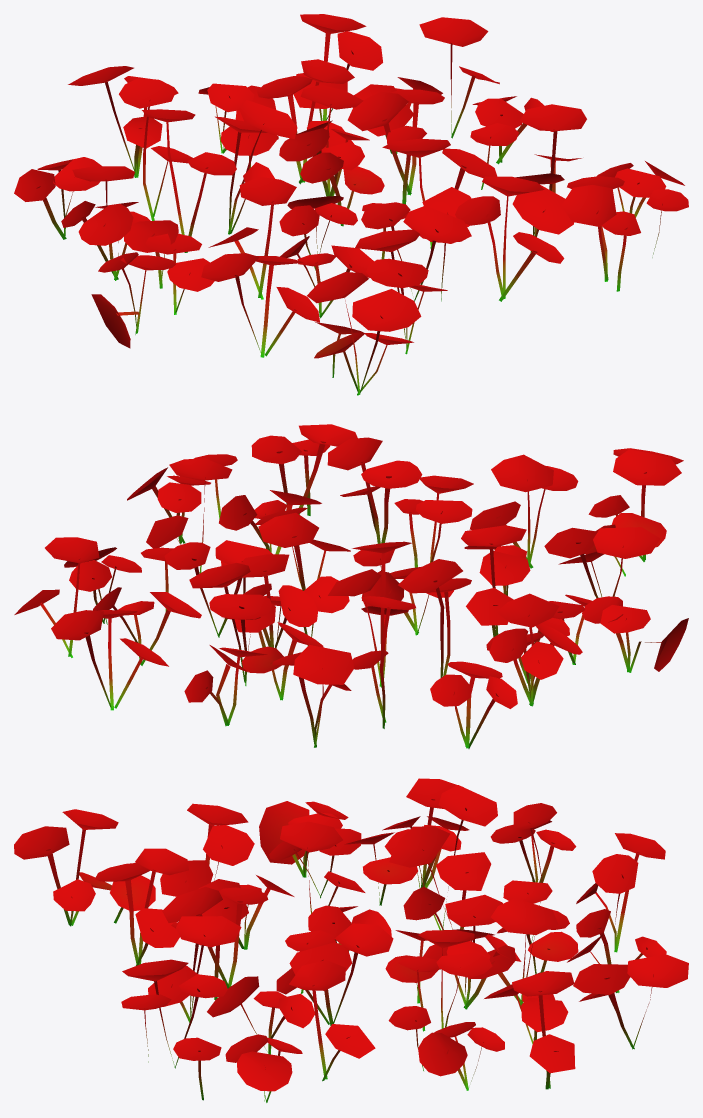
The model's file is Var2_LOD4.fbx.
The picture shows the model from 3 angles, top to bottom: view 1: azimuth 30°, elevation 25°; view 2: azimuth 150°, elevation 25°; view 3: azimuth 270°, elevation 25°; orthographic projection.
Parts seen in each view (by area): view 1: _iry1_Var2_LOD4; view 2: _iry1_Var2_LOD4; view 3: _iry1_Var2_LOD4.
Boxes of the visible parts, x1,y1,x2,y2 form: _iry1_Var2_LOD4: (14,14,688,395); _iry1_Var2_LOD4: (14,424,688,748); _iry1_Var2_LOD4: (14,778,688,1102).
Size of the model in its own units: 55.57 by 13.39 by 58.37.
